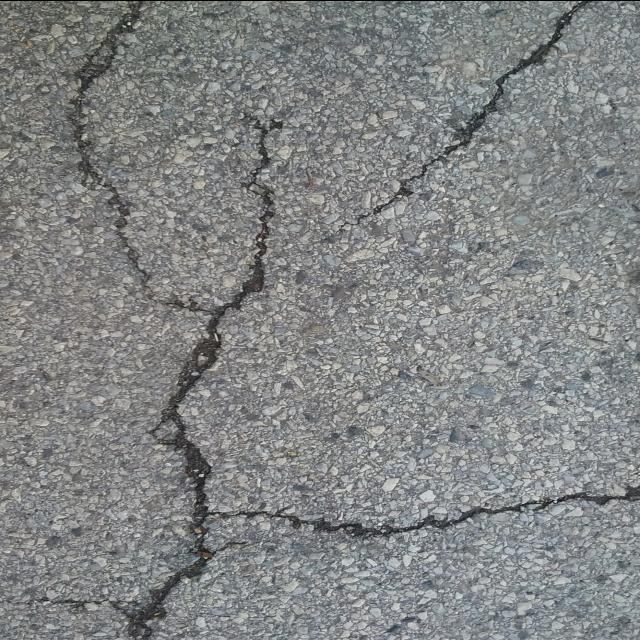Crack: (0, 0, 640, 640), (338, 0, 594, 230)
